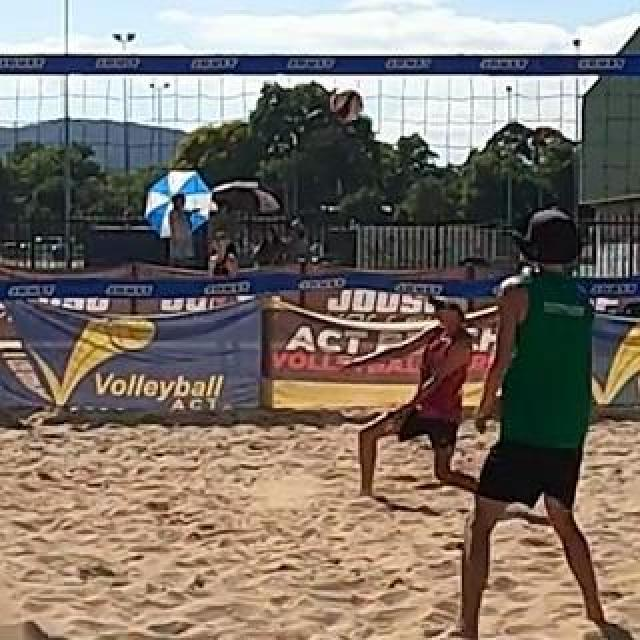volleyball: (331, 90, 363, 122)
